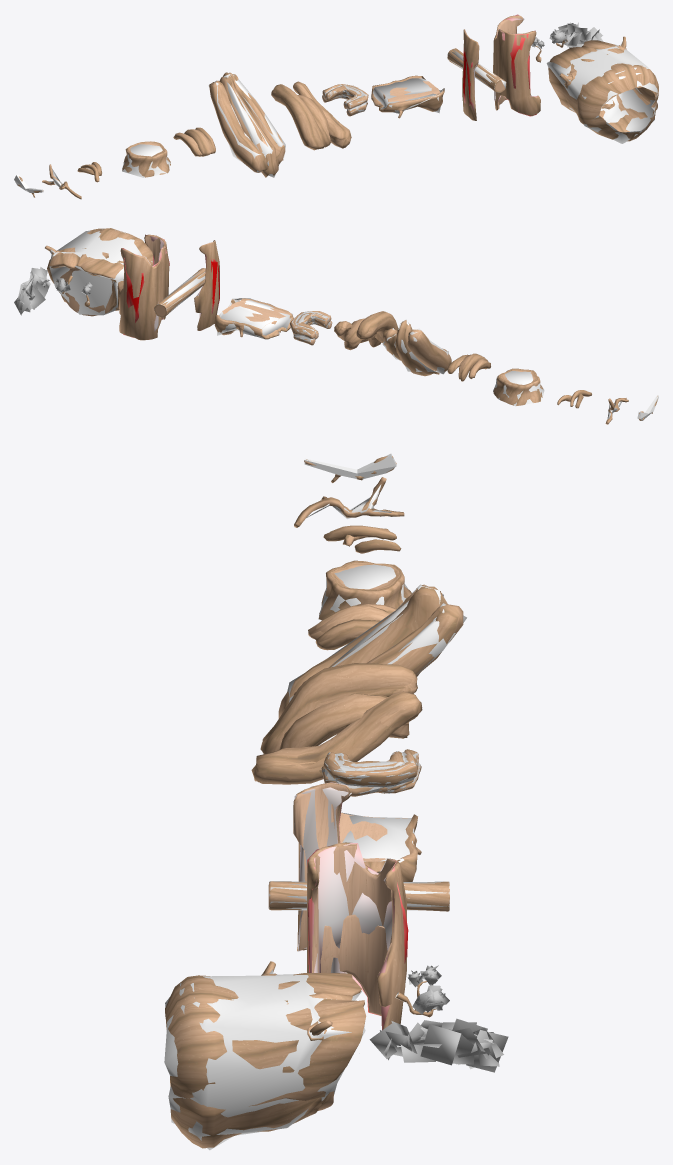
Rendered from Tree Bark trees.fbx.
The picture shows the model from 3 angles, top to bottom: view 1: azimuth 30°, elevation 25°; view 2: azimuth 150°, elevation 25°; view 3: azimuth 270°, elevation 25°; orthographic projection. The views are drawn at different scales.
Visible parts, largest first — view 1: BigTreeHorizontalTreeStump, Col_BigTreeHorizontalTreeStump.001, RootGroupStair, HollowTree, TreeRootsStair, Col_RootGroupStair.001, TreeSTumpPlatform, Col_TreeRootsStair.001, BarkPlank, Col_TreeSTumpPlatform.001, TreeStump, TreeRootEdge (+9 smaller); view 2: HollowTree, Col_BigTreeHorizontalTreeStump.001, BigTreeHorizontalTreeStump, RootGroupStair, BarkPlank, Col_TreeSTumpPlatform.001, TreeSTumpPlatform, TreeRootsStair, TreeStump, TreeBush, TreeRootEdge, Col_TreeRootsStair.001 (+9 smaller); view 3: BigTreeHorizontalTreeStump, Col_BigTreeHorizontalTreeStump.001, HollowTree, TreeRootsStair, RootGroupStair, Col_TreeRootsStair.001, Col_HollowTree.001, TreeBush, TreeRootEdge, BarkPlank, TreeStump, Tree_Cylinder (+10 smaller).
Boxes of the visible parts, x1=… form: BigTreeHorizontalTreeStump: x1=548, y1=36, x2=658, y2=141; Col_BigTreeHorizontalTreeStump.001: x1=546, y1=41, x2=657, y2=143; RootGroupStair: x1=209, y1=72, x2=285, y2=177; HollowTree: x1=493, y1=15, x2=540, y2=116; TreeRootsStair: x1=271, y1=81, x2=351, y2=150; Col_RootGroupStair.001: x1=208, y1=72, x2=285, y2=177; TreeSTumpPlatform: x1=371, y1=75, x2=444, y2=118; Col_TreeRootsStair.001: x1=271, y1=81, x2=350, y2=149; BarkPlank: x1=462, y1=29, x2=479, y2=120; Col_TreeSTumpPlatform.001: x1=373, y1=78, x2=444, y2=113; TreeStump: x1=122, y1=141, x2=170, y2=177; TreeRootEdge: x1=322, y1=84, x2=368, y2=116; HollowTree: x1=118, y1=234, x2=169, y2=340; Col_BigTreeHorizontalTreeStump.001: x1=49, y1=229, x2=152, y2=315; BigTreeHorizontalTreeStump: x1=45, y1=228, x2=152, y2=316; RootGroupStair: x1=383, y1=320, x2=451, y2=376; BarkPlank: x1=194, y1=240, x2=219, y2=330; Col_TreeSTumpPlatform.001: x1=217, y1=298, x2=292, y2=338; TreeSTumpPlatform: x1=214, y1=298, x2=293, y2=339; TreeRootsStair: x1=334, y1=311, x2=398, y2=349; TreeStump: x1=493, y1=368, x2=543, y2=405; TreeBush: x1=14, y1=267, x2=50, y2=315; TreeRootEdge: x1=290, y1=311, x2=332, y2=345; Col_TreeRootsStair.001: x1=334, y1=311, x2=395, y2=350; BigTreeHorizontalTreeStump: x1=165, y1=961, x2=366, y2=1148; Col_BigTreeHorizontalTreeStump.001: x1=164, y1=969, x2=365, y2=1150; HollowTree: x1=307, y1=842, x2=406, y2=1029; TreeRootsStair: x1=252, y1=663, x2=422, y2=784; RootGroupStair: x1=278, y1=584, x2=463, y2=735; Col_TreeRootsStair.001: x1=251, y1=663, x2=422, y2=782; Col_HollowTree.001: x1=307, y1=842, x2=408, y2=1030; TreeBush: x1=369, y1=1018, x2=508, y2=1072; TreeRootEdge: x1=321, y1=749, x2=421, y2=796; BarkPlank: x1=293, y1=782, x2=351, y2=951; TreeStump: x1=318, y1=560, x2=411, y2=620; Tree_Cylinder: x1=268, y1=881, x2=449, y2=911.
Bounding box in the file's own units: 53.18 × 13.3 × 9.96.
